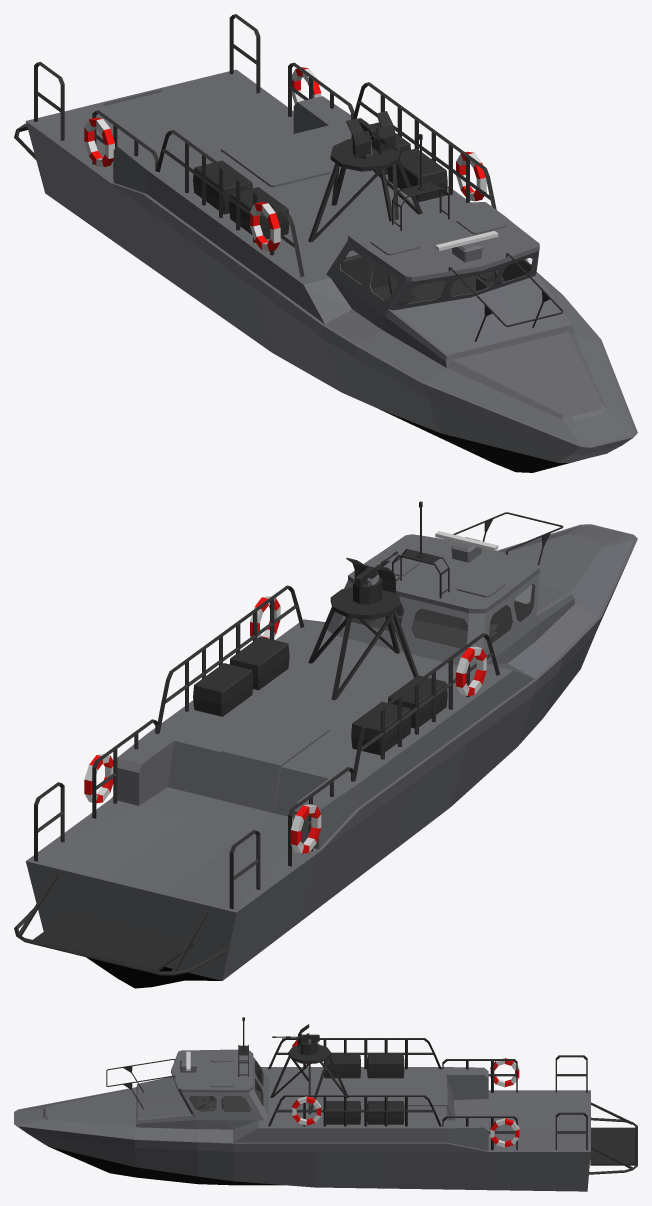
The picture shows the model from 3 angles, top to bottom: view 1: azimuth 30°, elevation 25°; view 2: azimuth 150°, elevation 25°; view 3: azimuth 270°, elevation 25°; orthographic projection. The views are drawn at different scales.
Visible parts, largest first — view 1: Cube.018, Cylinder.002, Cube.019, Cube.024, Cube.022, Cube.026, Cube.020; view 2: Cube.018, Cube.019, Cylinder.002, Cube.024, Cube.022, Cube.020; view 3: Cube.018, Cylinder.002, Cube.019, Cube.024, Cube.022, Cube.026.
Boxes of the visible parts, x1,y1,x2,y2 form: Cube.018: (14, 14, 637, 472); Cylinder.002: (308, 139, 422, 242); Cube.019: (220, 134, 329, 187); Cube.024: (340, 252, 532, 303); Cube.022: (346, 111, 397, 157); Cube.026: (456, 212, 505, 234); Cube.020: (370, 233, 419, 255); Cube.018: (14, 501, 637, 988); Cube.019: (215, 714, 329, 810); Cylinder.002: (308, 587, 418, 700); Cube.024: (345, 584, 534, 648); Cube.022: (346, 551, 397, 592); Cube.020: (456, 575, 505, 597); Cube.018: (14, 1017, 637, 1191); Cylinder.002: (270, 1044, 348, 1114); Cube.019: (386, 1087, 455, 1120); Cube.024: (189, 1061, 263, 1111); Cube.022: (272, 1024, 319, 1054); Cube.026: (211, 1076, 234, 1087).
Size of the model in its own units: 797 by 979 by 3337.
